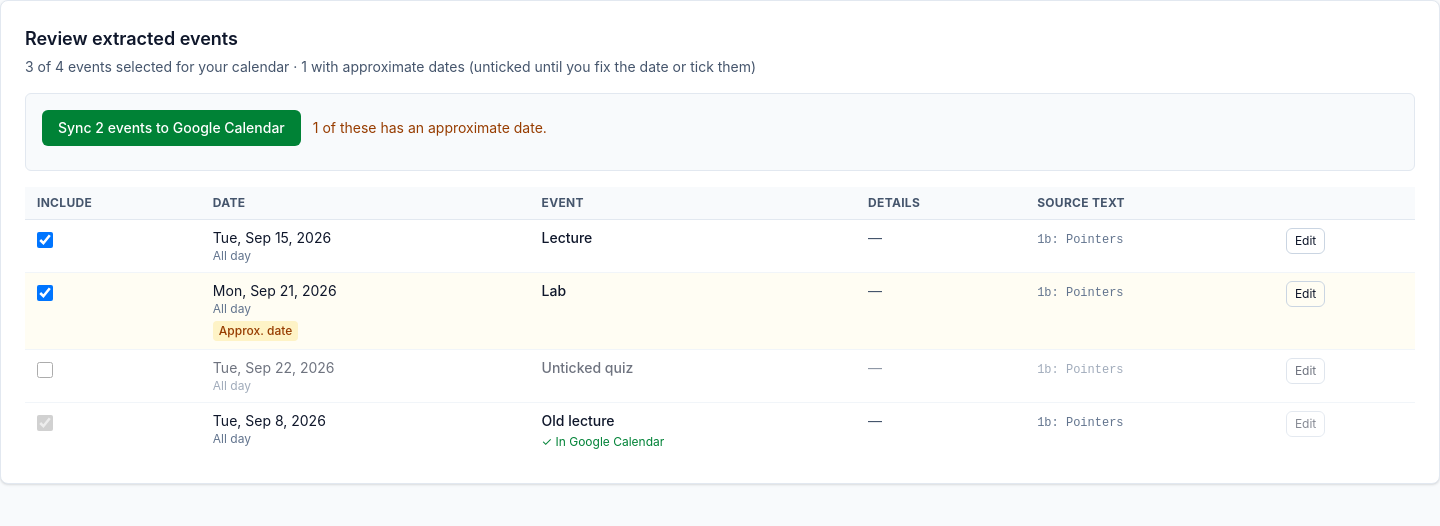
Test: syncing › reports events that failed, so they can be retried
What coordinates should you click on to do the following:
click the button "Sync 2 events to Google Calendar"
I would click on:
 (171, 128)
Its box is [42,110,301,146].
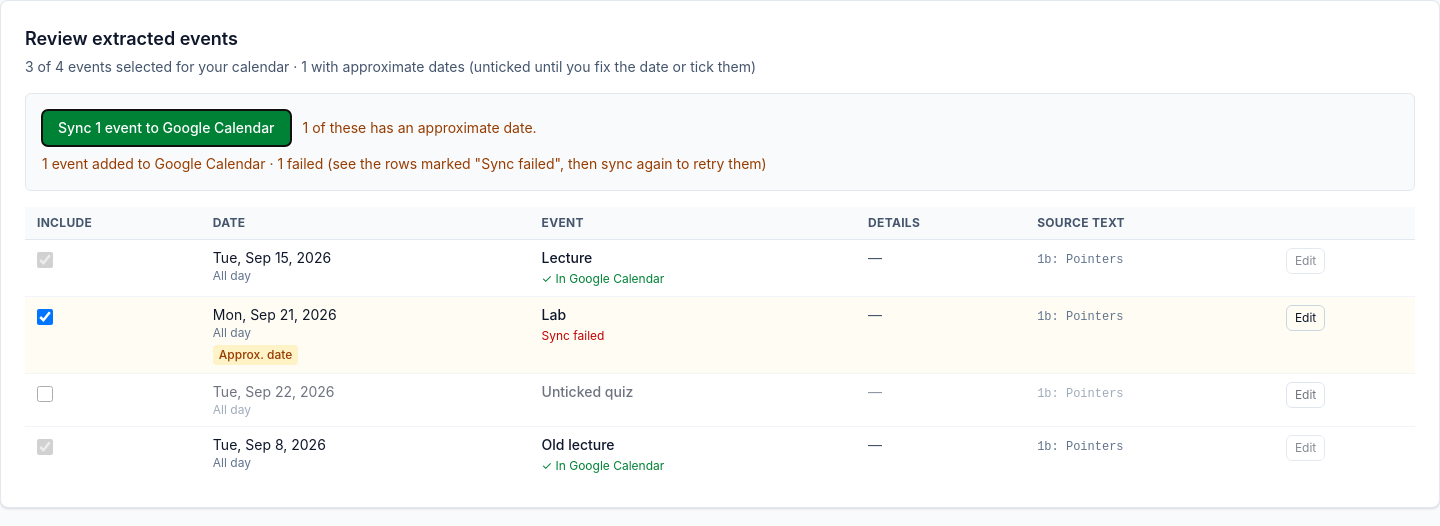
Check: the button "Sync 1 event to Google Calendar" is enabled, box [42,110,290,146]
Check: the message shows "1 event added to Google Calendar · 1 failed", box [42,155,767,172]
